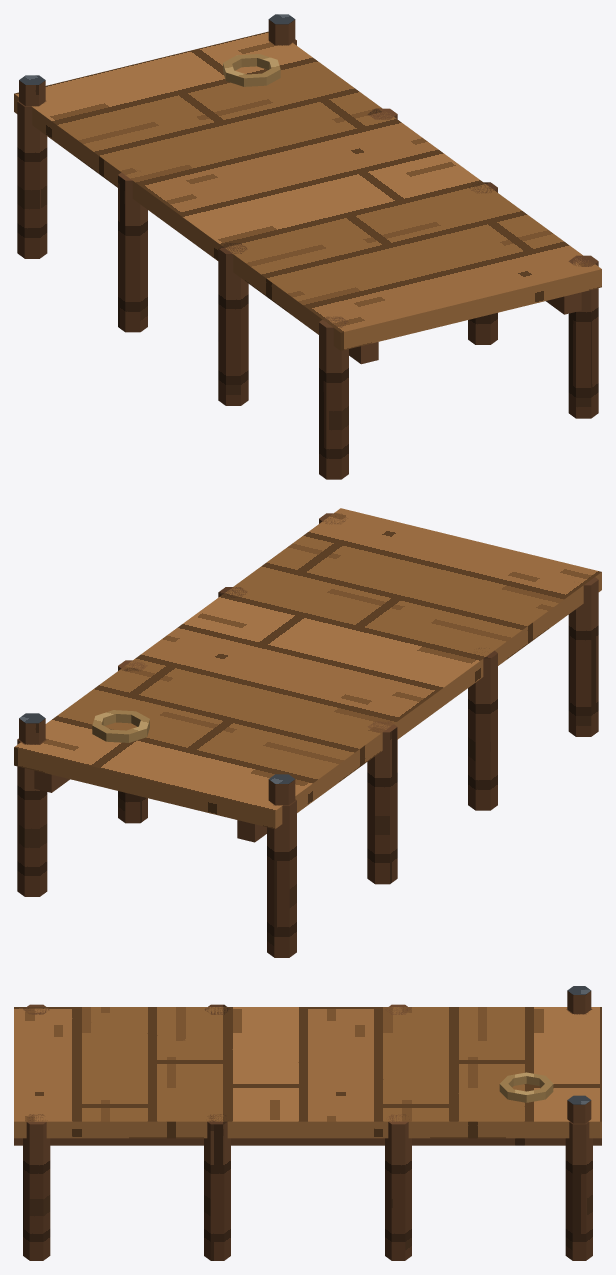
The model's file is dock.glb.
The picture shows the model from 3 angles, top to bottom: view 1: azimuth 30°, elevation 25°; view 2: azimuth 150°, elevation 25°; view 3: azimuth 270°, elevation 25°; orthographic projection. The views are drawn at different scales.
Visible parts, largest first — view 1: dock; view 2: dock; view 3: dock.
Part boxes in pixels (left/top/right/bottom): dock: left=14, top=14, right=601, bottom=479; dock: left=14, top=508, right=601, bottom=957; dock: left=14, top=986, right=601, bottom=1260.
Bounding box in the file's own units: 1.88 × 1.14 × 3.9.
4 materials, 4 textured.
